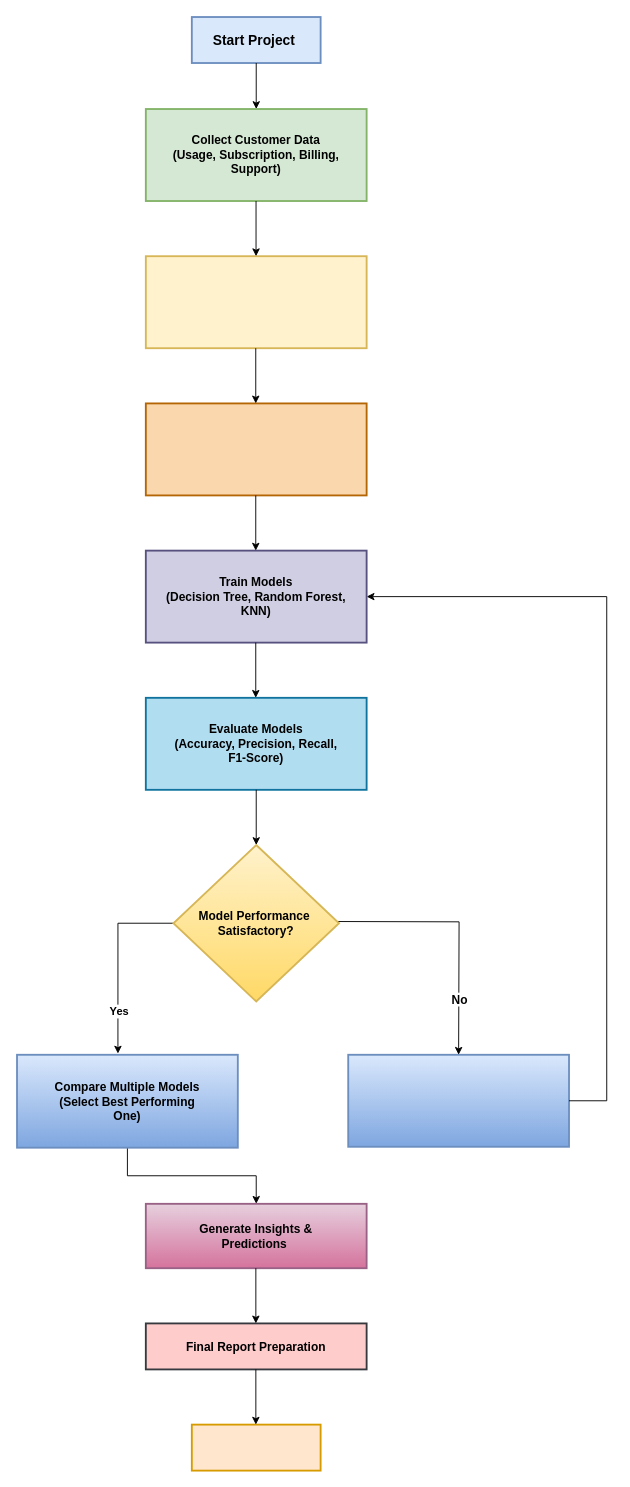
Some shapes in this 630 by 1487 pixel diagram are drawn without their labels. Here are the shapes that lost their labels. From the top down, the centre of each, then its label:
At [255,302]: "Data Cleaning (Handling Missing Values, Remove Duplicates)".
At [255,449]: "Data Transformation (Encoding, Scaling, Feature Scaling)".
At [458,1100]: "Hyperparameter Tuning (Optimize Model Parameters)".
At [255,1447]: "Stop Project".
